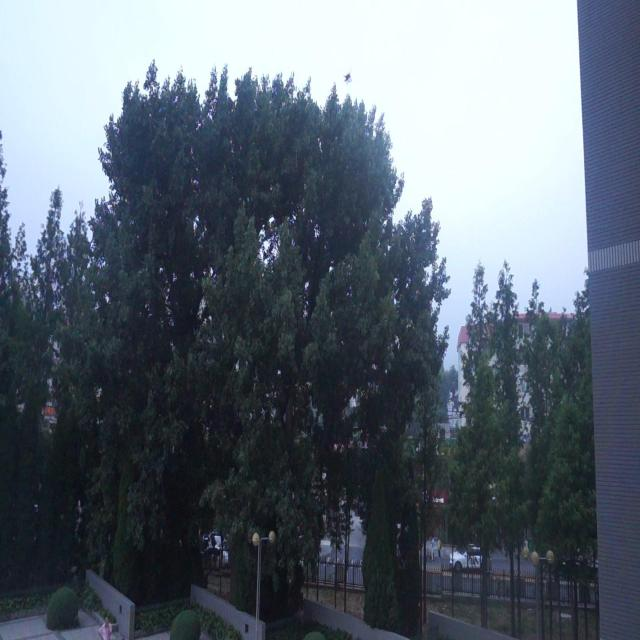drone: (342, 66, 354, 88)
